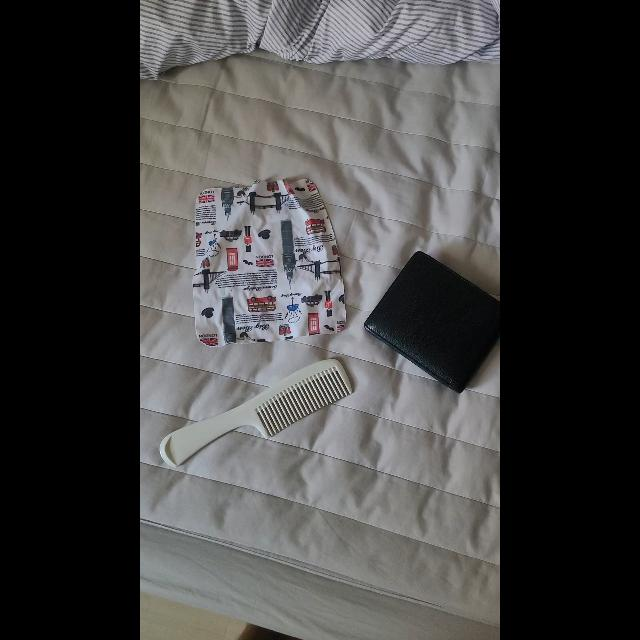COMB: (158, 358, 352, 468)
Glasses cleaning cloth: (192, 178, 346, 346)
WALLET: (364, 251, 501, 394)
